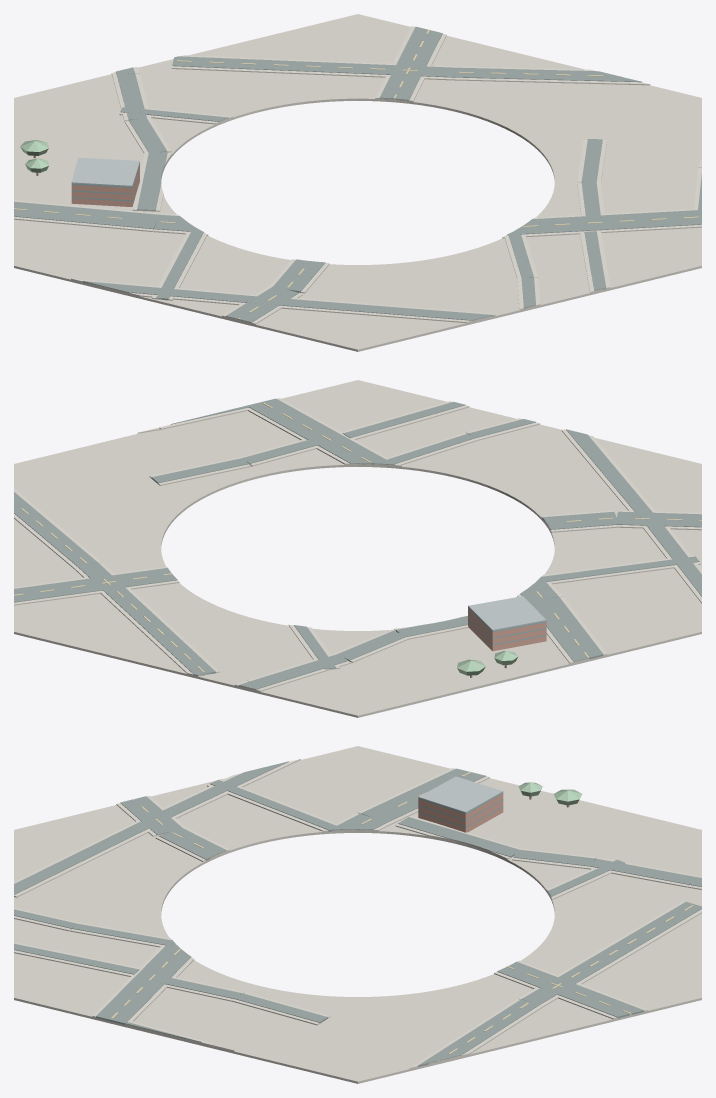
Rendered from surround-P05.glb.
3 views of the same model, one above another, from view 1: azimuth 30°, elevation 25°; view 2: azimuth 150°, elevation 25°; view 3: azimuth 270°, elevation 25° (orthographic).
Visible parts, largest first — view 1: P05_neutral; view 2: P05_neutral; view 3: P05_neutral.
Boxes of the visible parts, left/top/right/bottom form: P05_neutral: left=14, top=14, right=701, bottom=351; P05_neutral: left=14, top=380, right=701, bottom=717; P05_neutral: left=14, top=746, right=701, bottom=1083.
Bounding box in the file's own units: 16.17 × 0.5348 × 14.
Materials: 1 (1 with a texture image).
